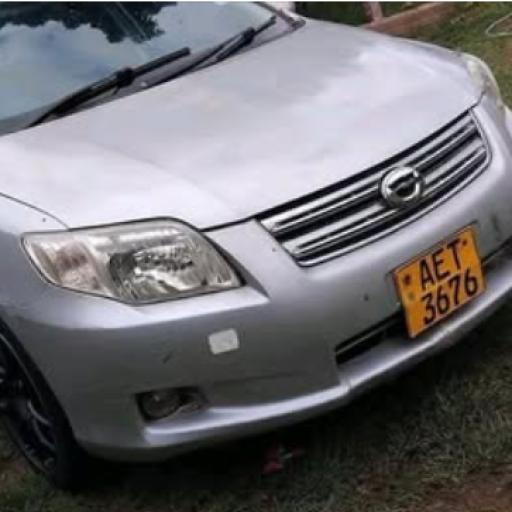number-plates: (404, 231, 500, 323)
